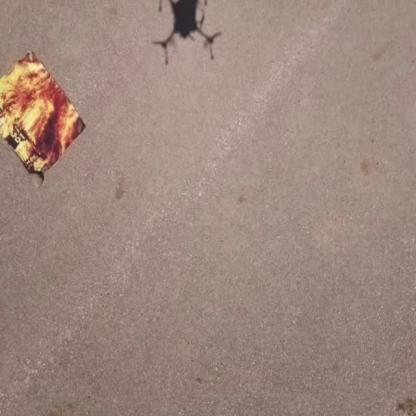fire-poster: (0, 48, 86, 185)
